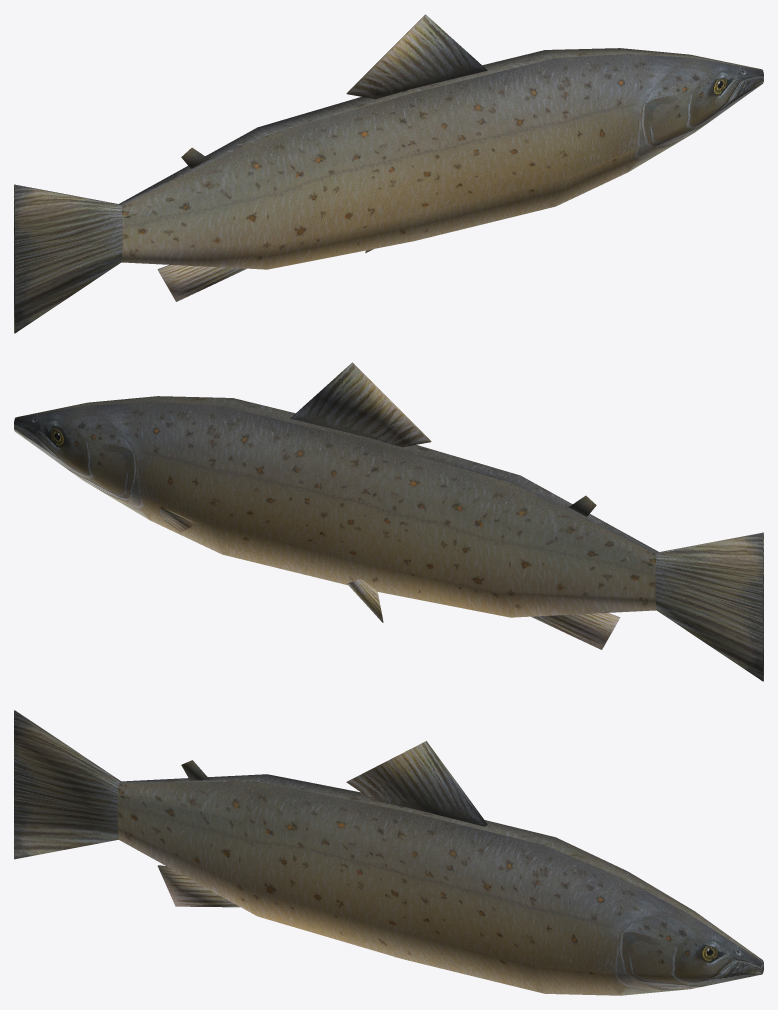
The model's file is 2025-12-03_Salmon_old.glb.
The picture shows the model from 3 angles, top to bottom: view 1: azimuth 30°, elevation 25°; view 2: azimuth 150°, elevation 25°; view 3: azimuth 330°, elevation 25°; orthographic projection.
Visible parts, largest first — view 1: Cube; view 2: Cube, Cube.001; view 3: Cube.
Boxes of the visible parts, x1,y1,x2,y2 form: Cube: (14,14,763,333); Cube: (14,362,763,681); Cube.001: (159,508,383,622); Cube: (14,710,763,995).
Bounding box in the file's own units: 10.54 × 3.2 × 0.8459.
1 material, 1 textured.
